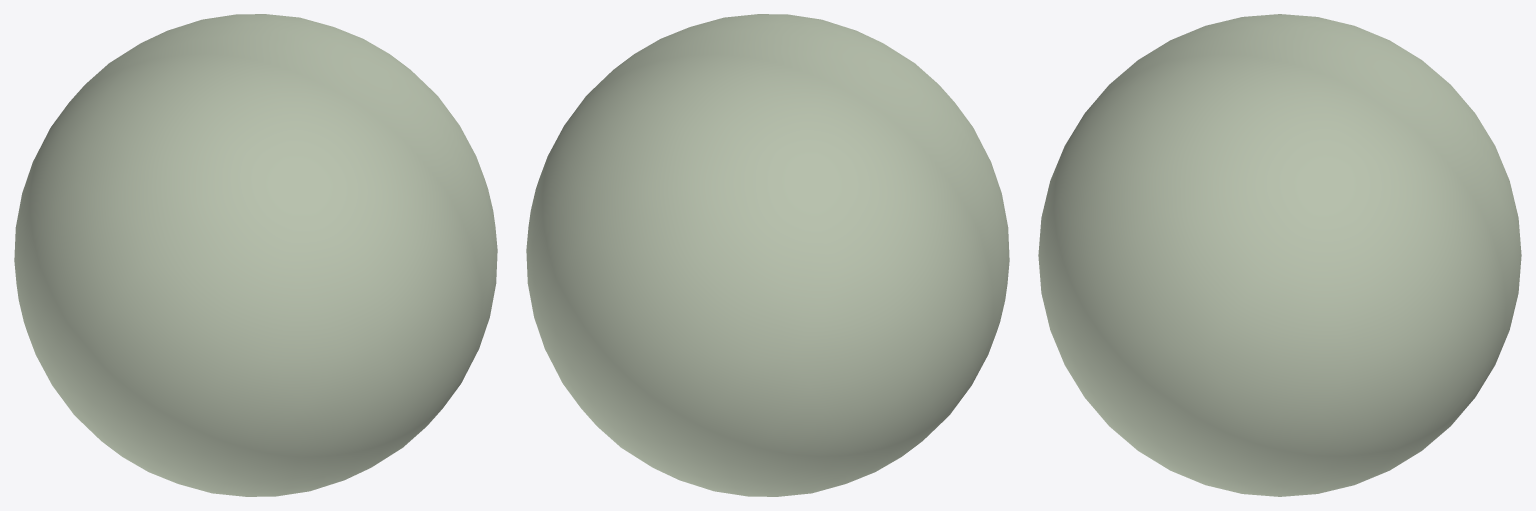
3 views of the same model, side by side, from view 1: azimuth 30°, elevation 25°; view 2: azimuth 150°, elevation 25°; view 3: azimuth 270°, elevation 25° (orthographic).
Parts seen in each view (by area): view 1: Sphere; view 2: Sphere; view 3: Sphere.
Part boxes in pixels (x1,y1,x2,y2): Sphere: [14, 14, 497, 496]; Sphere: [526, 14, 1009, 496]; Sphere: [1038, 14, 1521, 496].
Bounding box in the file's own units: 2 × 2 × 2.
